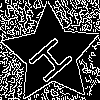H: (26, 29, 82, 86)
